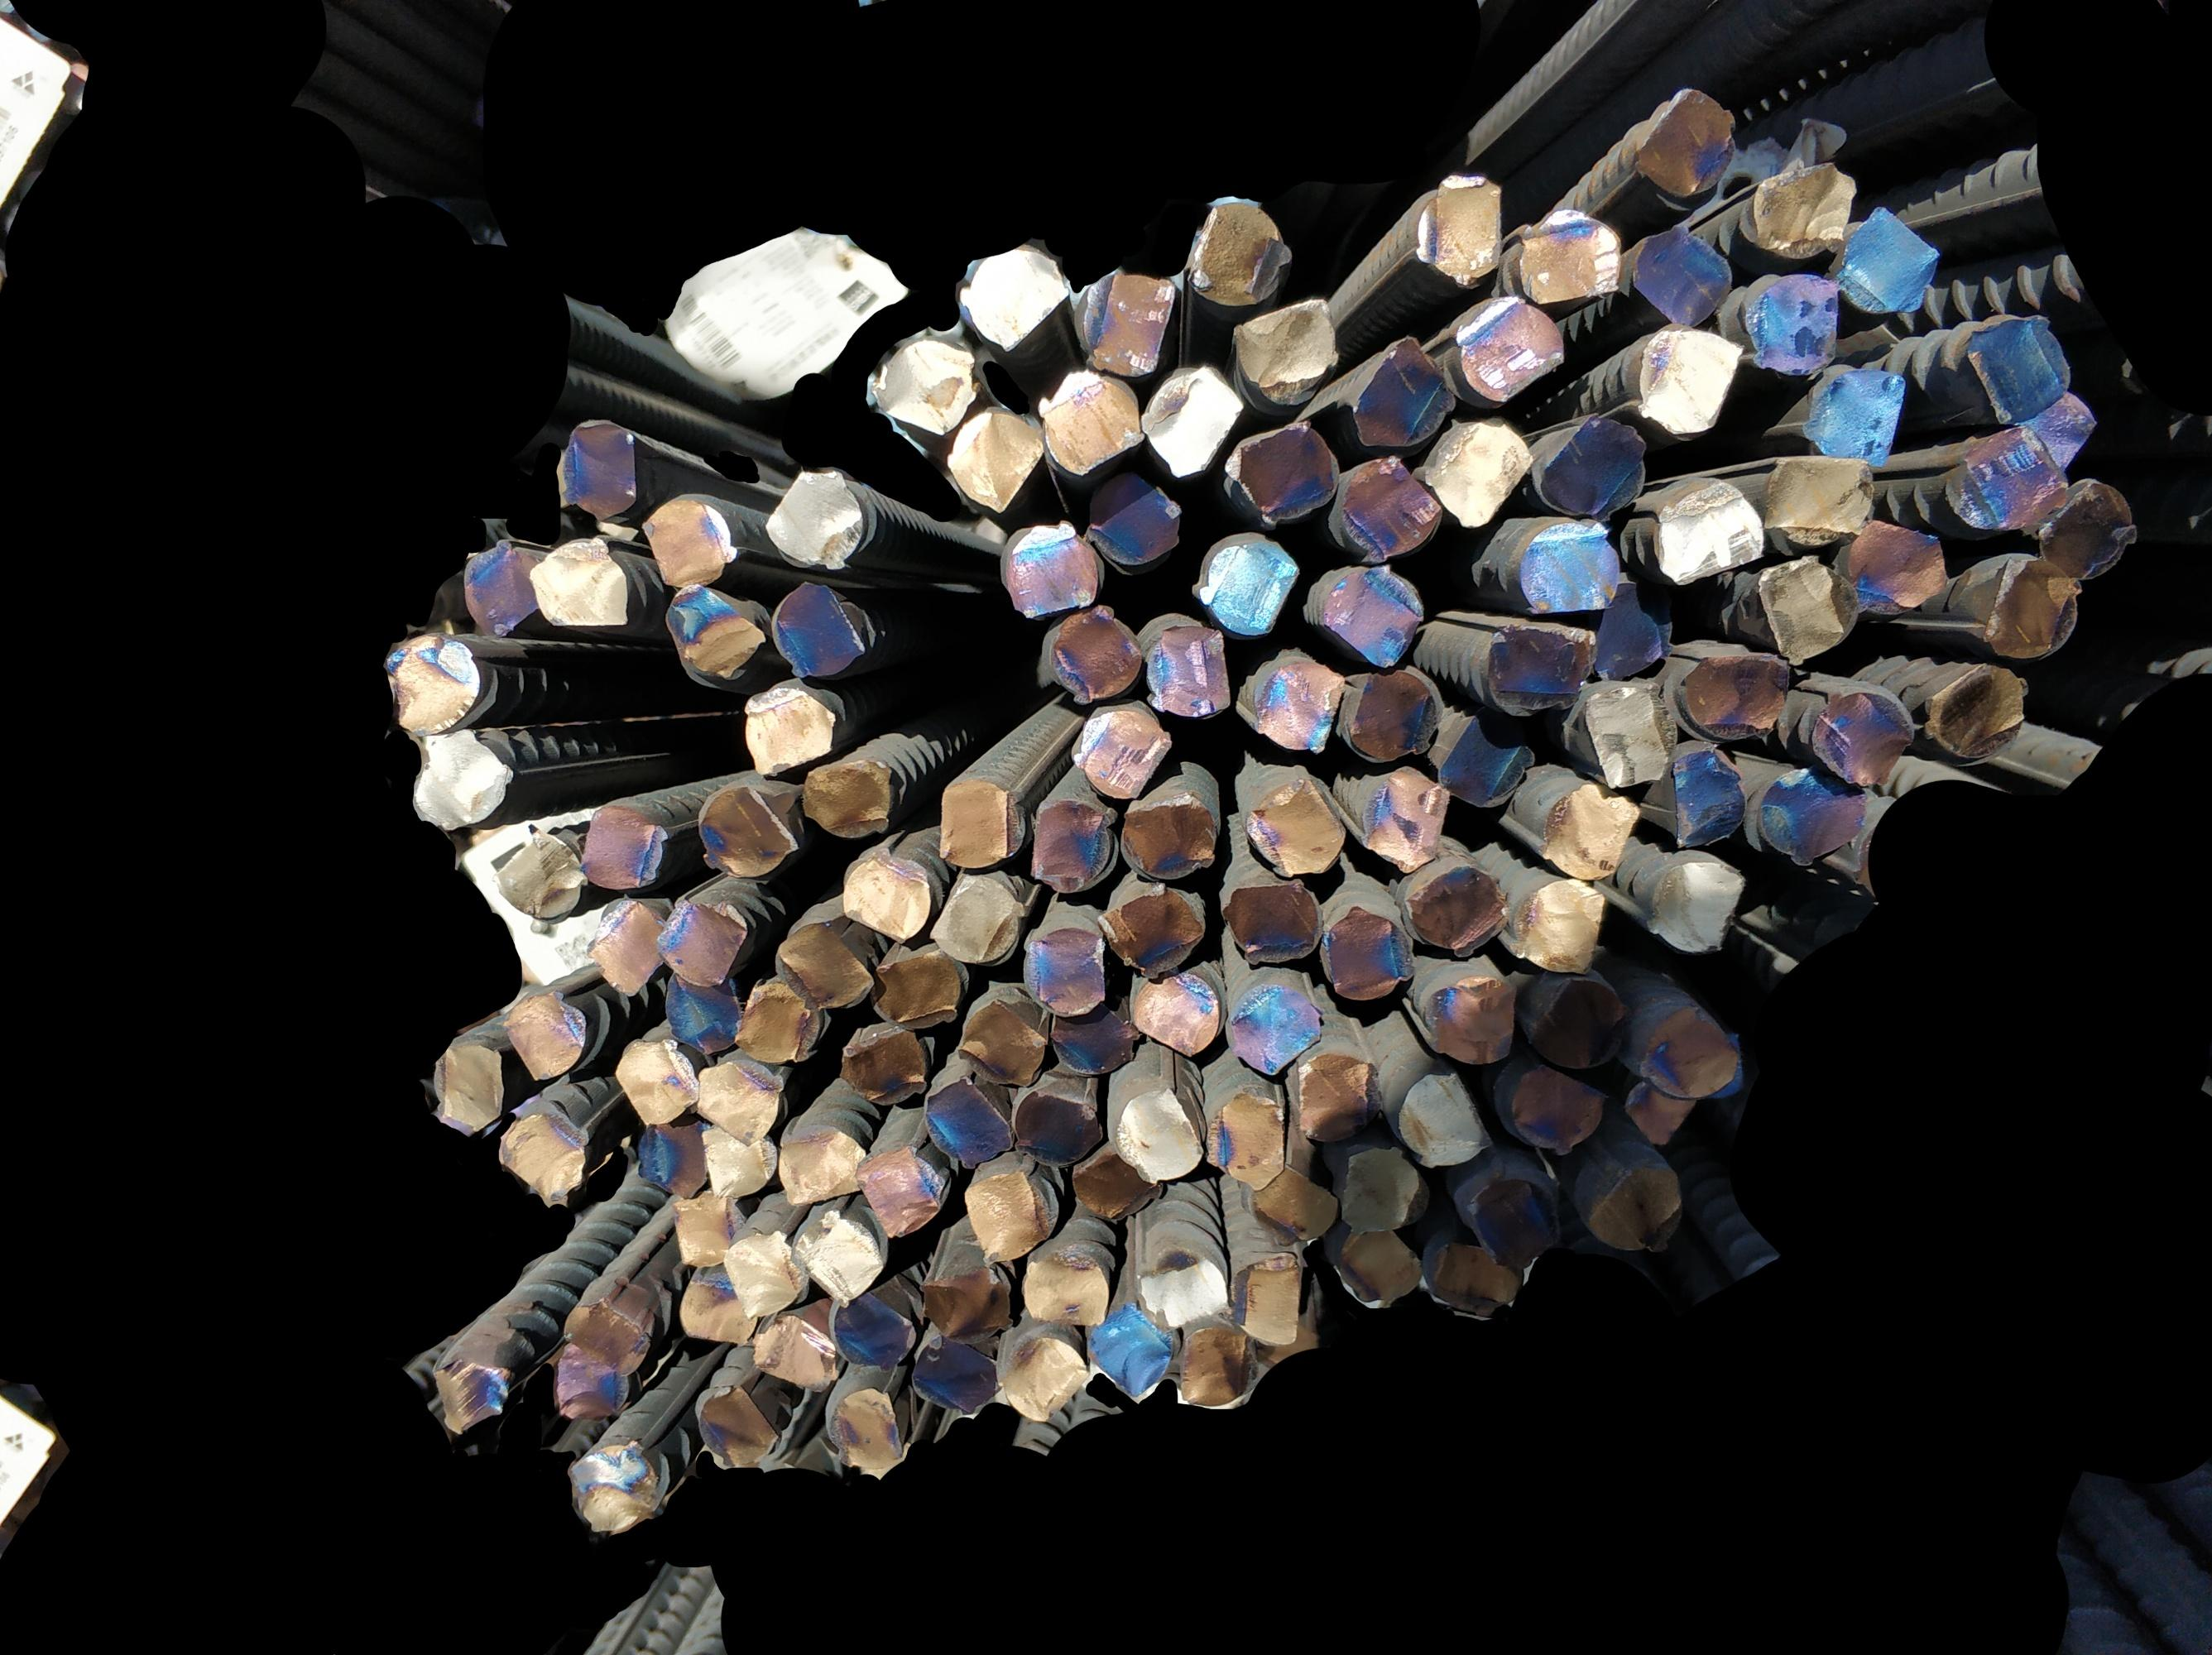bar: (1941, 426, 2073, 534), (1027, 362, 1147, 478), (1222, 412, 1341, 528), (1625, 322, 1746, 436), (1644, 475, 1769, 586), (1222, 294, 1347, 403), (1333, 443, 1444, 563), (1136, 360, 1246, 482), (1347, 329, 1454, 450), (1454, 292, 1567, 407), (1970, 555, 2085, 668), (1425, 410, 1534, 528), (1673, 640, 1793, 748), (952, 245, 1067, 356), (1536, 407, 1647, 522), (1752, 553, 1863, 668), (1428, 697, 1536, 814), (1833, 202, 1941, 318), (1479, 619, 1600, 721), (1964, 315, 2075, 426), (1317, 560, 1427, 671), (759, 462, 865, 575), (1189, 534, 1301, 640), (1758, 447, 1871, 553), (1628, 83, 1732, 198), (1522, 963, 1630, 1073), (1758, 758, 1868, 866), (1805, 678, 1913, 788), (1074, 266, 1178, 379), (1187, 198, 1291, 309), (1395, 1062, 1498, 1175), (1512, 511, 1625, 614), (1840, 520, 1953, 622), (1241, 772, 1347, 880), (1632, 217, 1734, 329), (1802, 362, 1908, 468), (1096, 878, 1206, 980), (942, 409, 1046, 515), (1211, 873, 1321, 974), (1315, 895, 1416, 1005), (2035, 469, 2136, 579), (1411, 170, 1505, 287), (1644, 850, 1748, 954), (1924, 661, 2028, 765), (999, 518, 1102, 624), (657, 582, 768, 680), (1357, 765, 1454, 876), (1222, 975, 1324, 1080), (1538, 781, 1640, 885), (1520, 207, 1623, 311), (876, 336, 982, 436), (1581, 1156, 1687, 1257), (408, 730, 516, 829), (695, 782, 803, 881), (1138, 614, 1235, 723), (1043, 605, 1147, 706), (926, 861, 1025, 967), (381, 640, 488, 737), (1077, 471, 1185, 568), (1248, 652, 1343, 761), (521, 535, 632, 629), (1739, 273, 1844, 372), (1402, 862, 1510, 958), (1341, 666, 1446, 763), (1752, 158, 1856, 256), (836, 841, 931, 947), (1501, 1059, 1607, 1154), (775, 574, 867, 683), (1659, 741, 1750, 852), (490, 1111, 594, 1206), (848, 1139, 944, 1243), (1109, 1087, 1208, 1186), (1421, 968, 1519, 1069), (1467, 1173, 1564, 1274), (931, 768, 1027, 871), (1295, 1041, 1388, 1146), (770, 920, 876, 1012), (1517, 873, 1607, 980), (1592, 572, 1679, 683), (785, 1206, 884, 1304), (1124, 963, 1223, 1060), (1076, 702, 1173, 801), (737, 687, 841, 779), (949, 991, 1046, 1088), (1640, 1005, 1739, 1100), (1030, 793, 1119, 899), (1199, 1087, 1288, 1193), (1583, 680, 1670, 788), (912, 1074, 1010, 1170), (487, 829, 589, 920), (1333, 1142, 1428, 1238), (907, 1321, 1001, 1419), (1083, 1302, 1173, 1403), (1131, 1241, 1234, 1330), (791, 758, 904, 838), (554, 415, 639, 522), (653, 899, 751, 991), (639, 497, 737, 589), (957, 1168, 1048, 1267), (1020, 918, 1110, 1017), (1117, 793, 1220, 880), (690, 1057, 784, 1151), (994, 1333, 1093, 1422), (579, 899, 667, 998), (1171, 1313, 1255, 1415), (1010, 1085, 1105, 1173), (568, 1443, 666, 1530), (1227, 1245, 1308, 1347), (692, 1377, 782, 1469), (745, 1311, 844, 1394), (865, 949, 966, 1031), (459, 541, 547, 633), (773, 1123, 869, 1208), (573, 803, 669, 888), (1065, 1146, 1168, 1224), (612, 1034, 699, 1127), (1046, 994, 1140, 1080), (1427, 1236, 1522, 1319), (1015, 1245, 1112, 1326), (690, 1113, 778, 1201), (916, 1266, 1017, 1342), (500, 993, 589, 1080), (1333, 1226, 1421, 1311), (718, 1231, 808, 1314), (427, 1043, 511, 1133), (829, 1285, 919, 1368), (659, 968, 747, 1052), (838, 1027, 931, 1106), (732, 982, 818, 1066), (560, 1299, 650, 1379), (824, 1380, 902, 1469), (1253, 1163, 1340, 1241), (2017, 382, 2096, 469), (551, 1339, 631, 1422), (662, 1191, 744, 1271), (426, 1361, 513, 1436), (631, 1118, 709, 1198), (676, 1273, 758, 1347), (1619, 1071, 1698, 1146)
